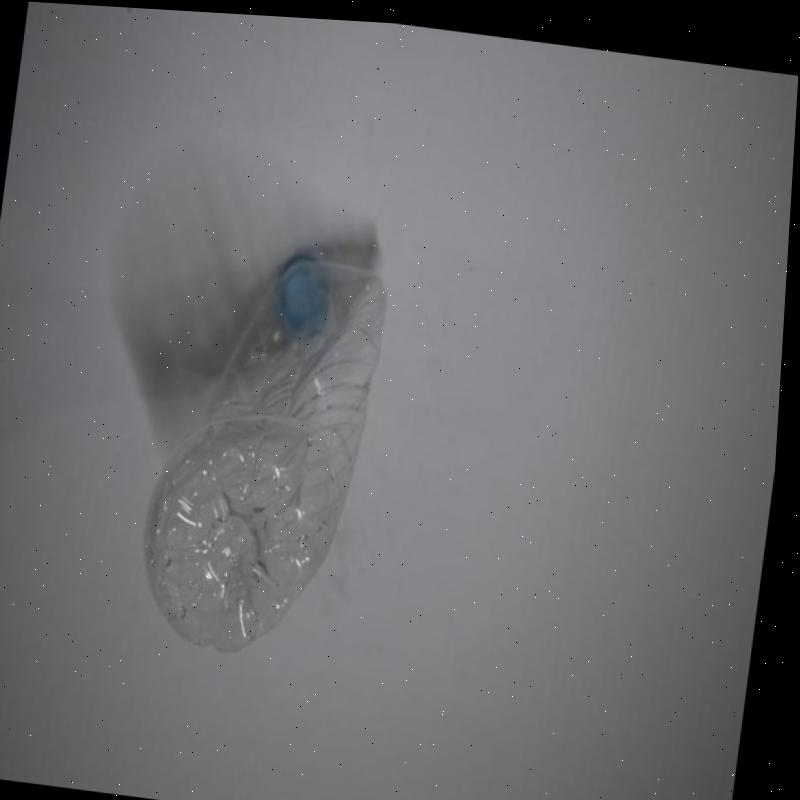botella: (134, 236, 398, 666)
